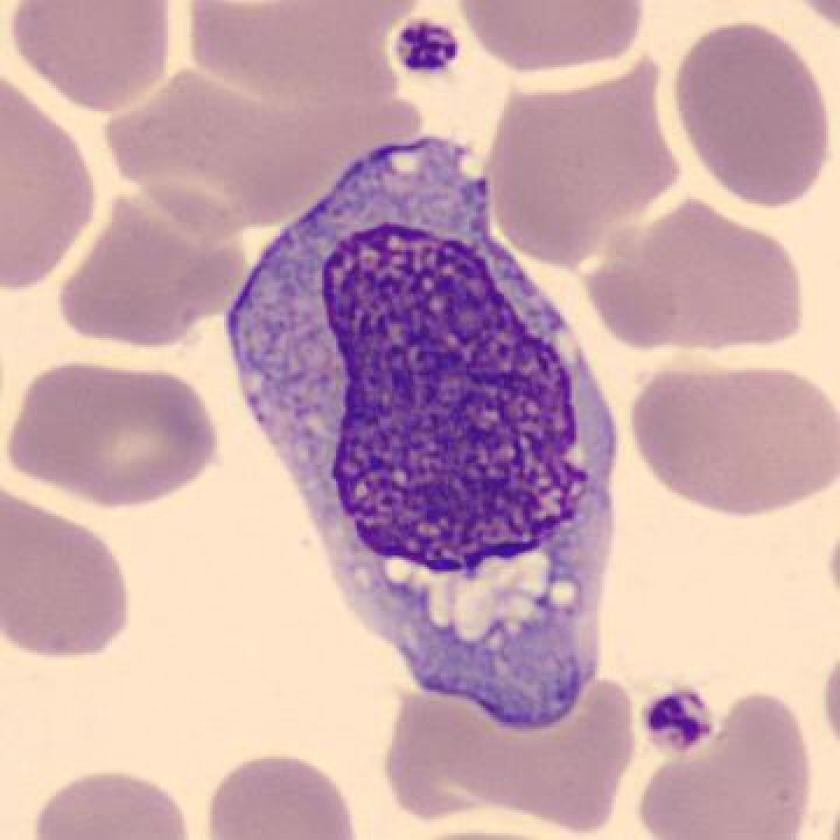monocyte: (199, 101, 638, 751)
